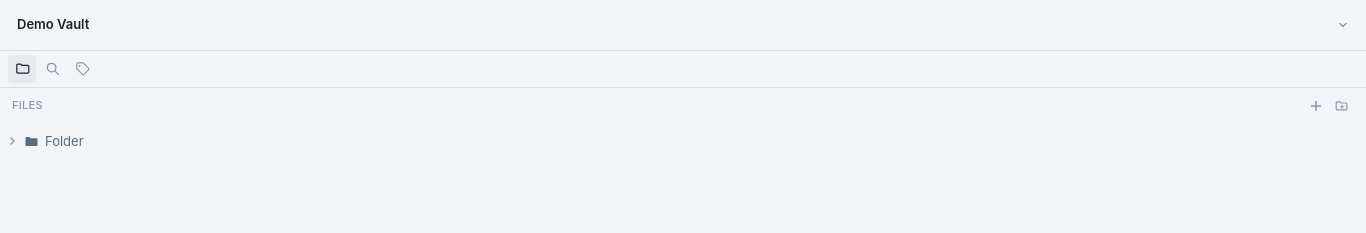
Test: LeftSidebar › switches to the Search sub-view and keeps the vault switcher visible
The width and height of the screenshot is (1366, 233).
Expected: the text "Demo Vault" is shown, [17,15,89,34]
What coordinates should you click on to do the following:
click the tab named "Search"
I would click on:
 (52, 68)
Its box is [38,54,66,82].
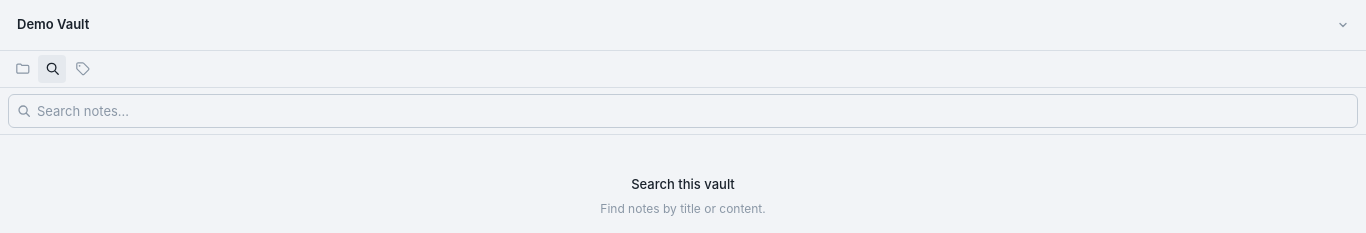
Expected: the text "Demo Vault" is shown, [17,15,89,34]
Now the search field with placeholder "Search notes…" is shown, box [37,94,1349,126]
